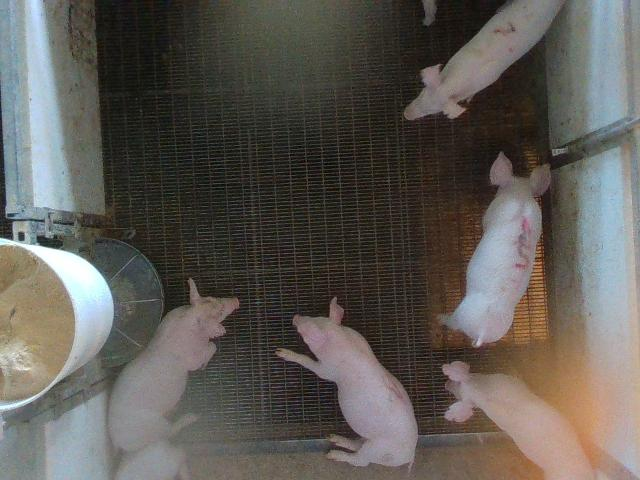pig-1: (276, 298, 418, 467)
pig-3: (439, 152, 551, 346)
